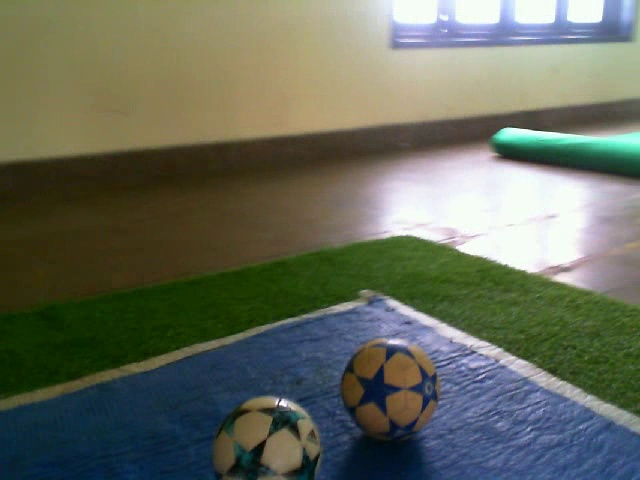ball: (337, 331, 443, 447), (208, 390, 324, 480)
